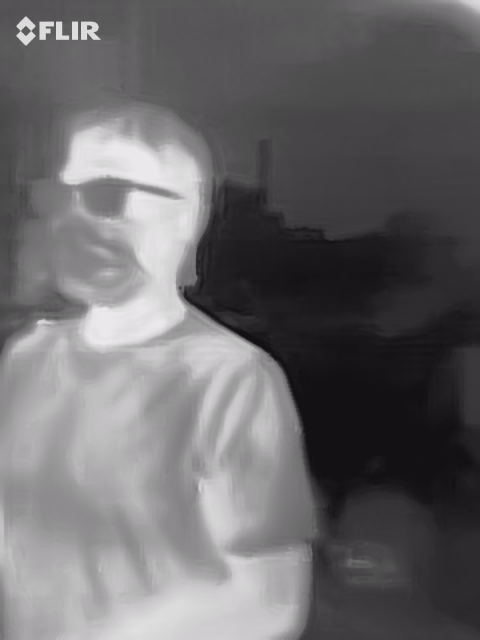head: (29, 101, 216, 307)
